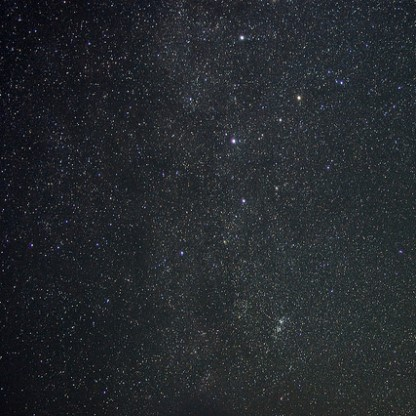Cassiopeia: (275, 92, 307, 131), (229, 184, 258, 212), (223, 129, 245, 158), (171, 243, 194, 265), (235, 28, 252, 49)
